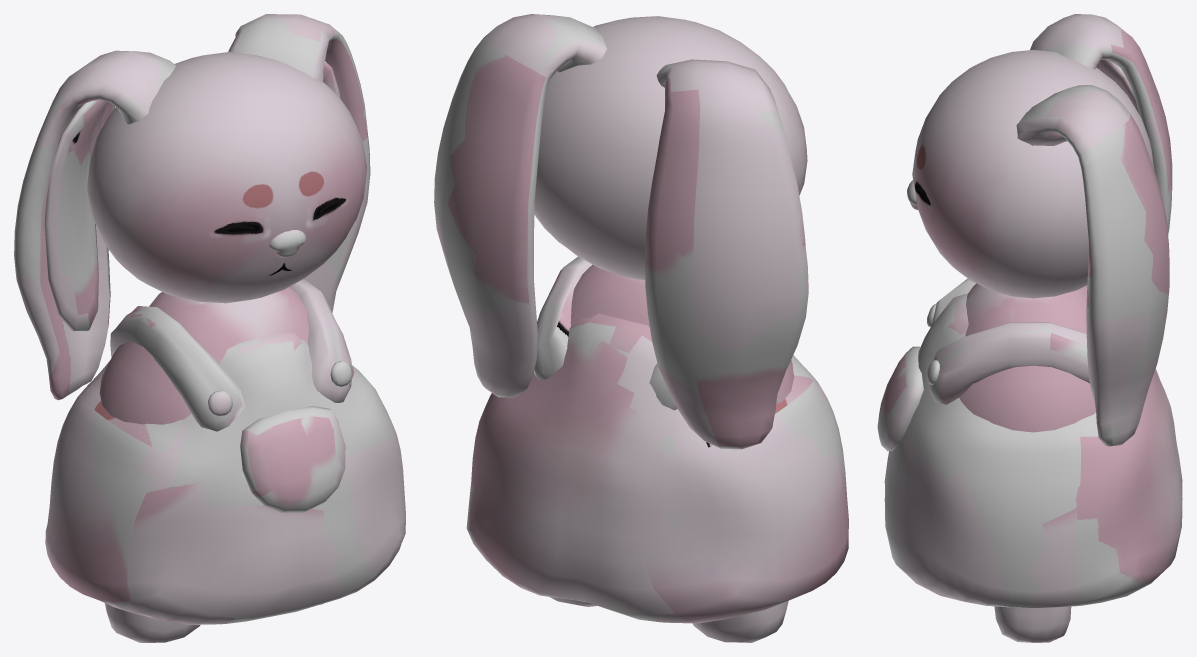
Rendered from bunnyContext.fbx.
The picture shows the model from 3 angles, left to right: view 1: azimuth 30°, elevation 25°; view 2: azimuth 150°, elevation 25°; view 3: azimuth 270°, elevation 25°; orthographic projection. The views are drawn at different scales.
Visible parts, largest first — view 1: Bunny, body; view 2: Bunny, body; view 3: Bunny, body.
Part boxes in pixels (x1,y1,x2,y2): Bunny: [14, 14, 405, 624]; body: [87, 52, 366, 642]; Bunny: [434, 14, 848, 623]; body: [534, 16, 807, 642]; Bunny: [877, 14, 1182, 607]; body: [912, 50, 1154, 642].
Size of the model in its own units: 494 by 752 by 381.
2 materials, 2 textured.
